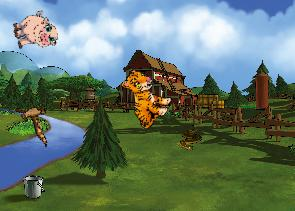eagle: (6, 92, 64, 147)
pig: (9, 8, 60, 56)
tiger: (108, 65, 178, 133)
